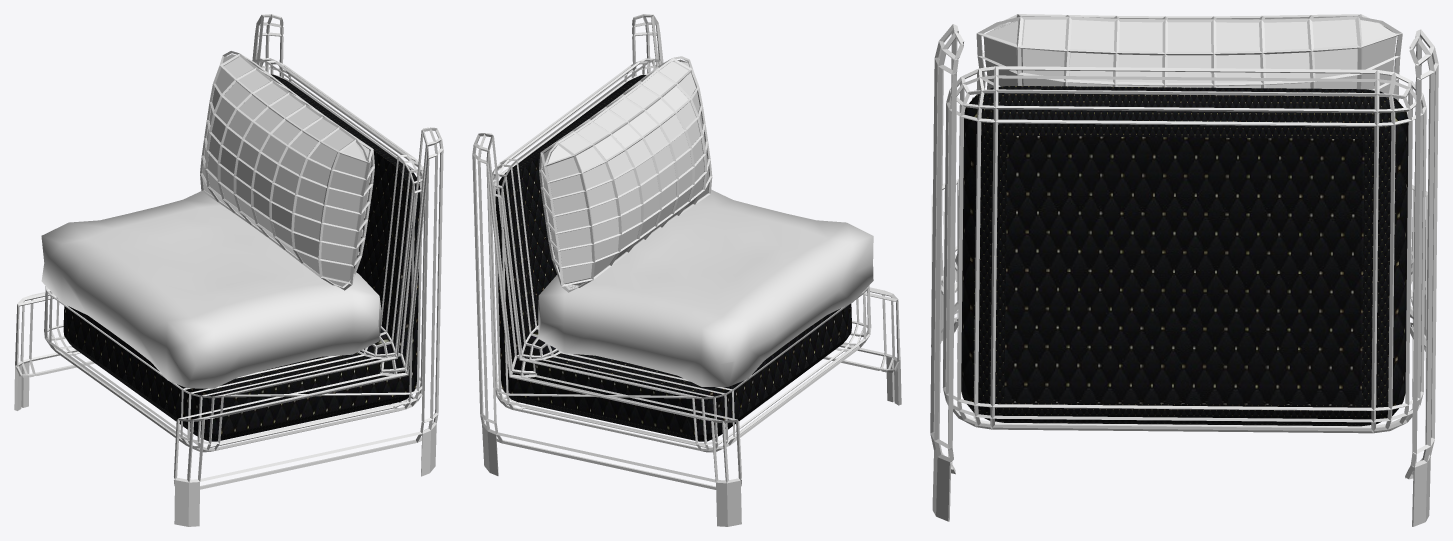
Rendered from seat.fbx.
The picture shows the model from 3 angles, left to right: view 1: azimuth 30°, elevation 25°; view 2: azimuth 150°, elevation 25°; view 3: azimuth 270°, elevation 25°; orthographic projection. The views are drawn at different scales.
Parts seen in each view (by area): view 1: polli005, couch003, pillow001, frame006, couchframe004, pillframe002; view 2: polli005, couch003, pillow001, frame006, couchframe004, pillframe002; view 3: couch003, couchframe004, pillow001, frame006, pillframe002.
Part boxes in pixels (<box>): polli005: <box>41,191,381,388</box>; couch003: <box>63,74,420,441</box>; pillow001: <box>202,54,370,286</box>; frame006: <box>14,14,443,526</box>; couchframe004: <box>44,58,425,452</box>; pillframe002: <box>200,51,374,290</box>; polli005: <box>538,189,873,386</box>; couch003: <box>495,75,851,441</box>; pillow001: <box>542,59,709,289</box>; frame006: <box>472,14,901,526</box>; couchframe004: <box>490,58,871,452</box>; pillframe002: <box>539,56,712,292</box>; couch003: <box>961,86,1408,426</box>; couchframe004: <box>943,66,1426,433</box>; pillow001: <box>983,17,1396,93</box>; frame006: <box>930,24,1438,526</box>; pillframe002: <box>976,14,1402,101</box>.
Bounding box in the file's own units: 217 × 263 × 244.
